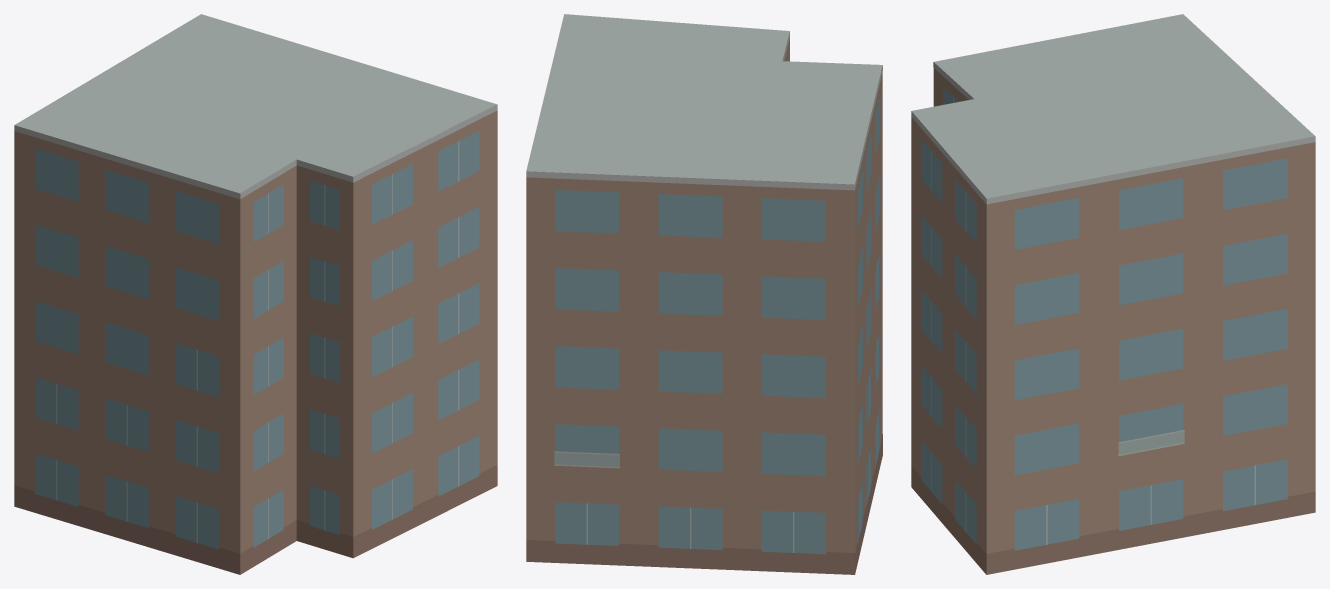
The model's file is survey-upis-32999445.glb.
The picture shows the model from 3 angles, left to right: view 1: azimuth 30°, elevation 25°; view 2: azimuth 150°, elevation 25°; view 3: azimuth 270°, elevation 25°; orthographic projection. The views are drawn at different scales.
Visible parts, largest first — view 1: survey-upis-32999445.tmp; view 2: survey-upis-32999445.tmp; view 3: survey-upis-32999445.tmp.
Part boxes in pixels (x1=…): survey-upis-32999445.tmp: x1=14, y1=14, x2=497, y2=574; survey-upis-32999445.tmp: x1=526, y1=14, x2=882, y2=574; survey-upis-32999445.tmp: x1=911, y1=14, x2=1315, y2=574.
Bounding box in the file's own units: 16.75 × 15.9 × 15.49.
